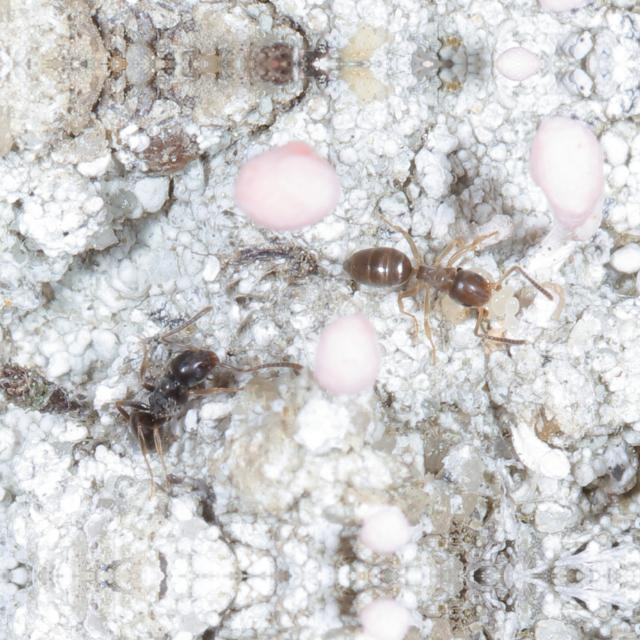Tapinoma: (337, 224, 521, 334), (106, 333, 240, 465)
